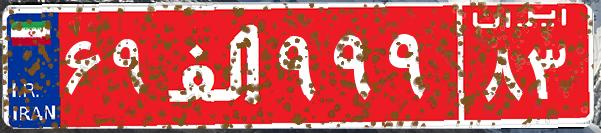3: (525, 38, 570, 115)
6: (57, 26, 110, 107)
8: (475, 38, 525, 113)
9: (385, 28, 445, 110), (273, 28, 330, 110), (330, 28, 385, 110), (110, 28, 158, 105)
الف: (158, 15, 273, 115)
